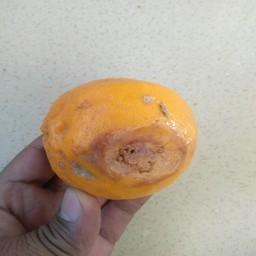Bad_orange: (37, 74, 199, 200)
